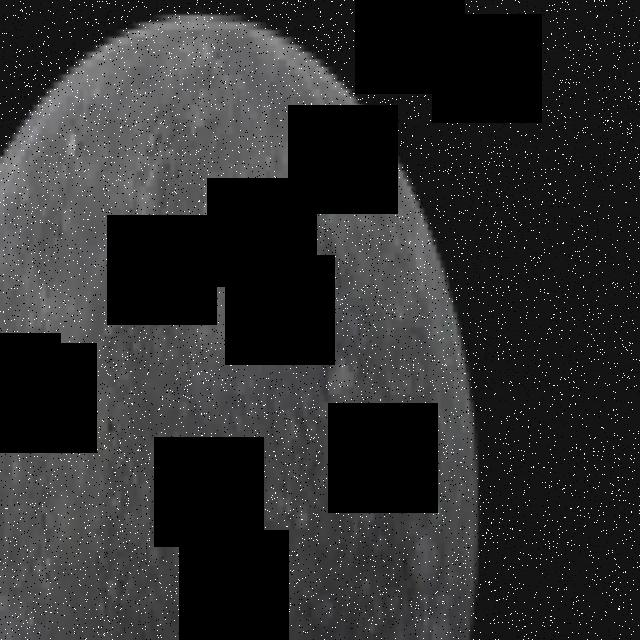Mercury: (0, 8, 478, 640)
